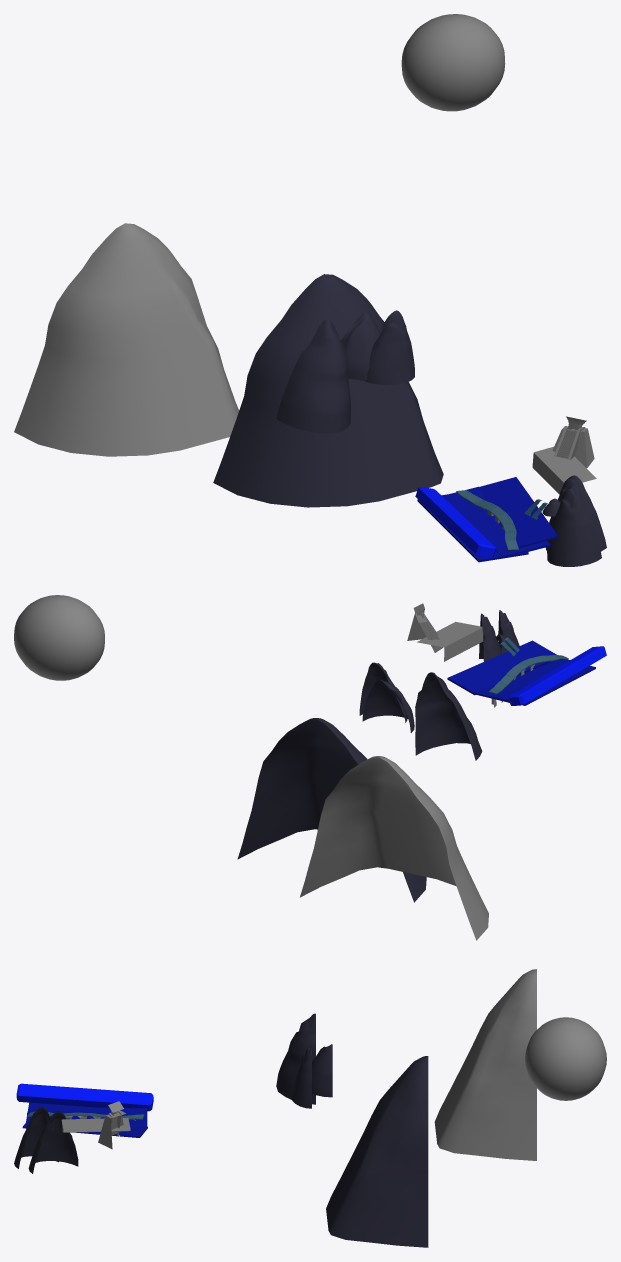
File: Misc.fbx
3 renders of one model, top to bottom at view 1: azimuth 30°, elevation 25°; view 2: azimuth 150°, elevation 25°; view 3: azimuth 270°, elevation 25°, orthographic. The views are drawn at different scales.
Parts seen in each view (by area): view 1: polySurface15, polySurface15__3_, Moon, polySurface14, polySurface13__2_, polySurface13, MainWater, TopWaterRegion, polySurface11, polySurface24, MainWater__2_, MainWater__1_ (+1 smaller); view 2: polySurface15, polySurface15__3_, Moon, polySurface14, MainWater, TopWaterRegion, polySurface11, polySurface24, MainWater__2_, polySurface13, polySurface13__3_, MainWater__1_ (+1 smaller); view 3: polySurface15__3_, polySurface15, Moon, TopWaterRegion, polySurface13__3_, polySurface14, polySurface11, polySurface13__2_, polySurface13, MainWater__1_, polySurface24, polySurface26.
Part boxes in pixels (bbox=[...]): polySurface15: bbox=[14, 223, 239, 456]; polySurface15__3_: bbox=[213, 274, 443, 507]; Moon: bbox=[401, 14, 505, 111]; polySurface14: bbox=[276, 318, 350, 433]; polySurface13__2_: bbox=[547, 485, 601, 566]; polySurface13: bbox=[364, 310, 414, 384]; MainWater: bbox=[479, 477, 558, 548]; TopWaterRegion: bbox=[415, 487, 496, 557]; polySurface11: bbox=[341, 312, 380, 380]; polySurface24: bbox=[532, 446, 596, 494]; MainWater__2_: bbox=[450, 486, 550, 557]; MainWater__1_: bbox=[417, 493, 528, 562]; polySurface15: bbox=[300, 756, 488, 940]; polySurface15__3_: bbox=[237, 718, 426, 902]; Moon: bbox=[14, 595, 104, 680]; polySurface14: bbox=[415, 672, 482, 760]; MainWater: bbox=[447, 640, 556, 695]; TopWaterRegion: bbox=[508, 646, 606, 705]; polySurface11: bbox=[362, 679, 414, 732]; polySurface24: bbox=[417, 621, 483, 661]; MainWater__2_: bbox=[473, 659, 569, 702]; polySurface13: bbox=[359, 662, 407, 722]; polySurface13__3_: bbox=[479, 613, 501, 661]; MainWater__1_: bbox=[492, 665, 595, 705]; polySurface15__3_: bbox=[326, 1056, 428, 1247]; polySurface15: bbox=[434, 969, 536, 1160]; Moon: bbox=[525, 1017, 606, 1100]; TopWaterRegion: bbox=[16, 1083, 153, 1111]; polySurface13__3_: bbox=[28, 1111, 78, 1173]; polySurface14: bbox=[276, 1013, 315, 1104]; polySurface11: bbox=[312, 1044, 332, 1097]; polySurface13__2_: bbox=[14, 1107, 58, 1168]; polySurface13: bbox=[291, 1047, 311, 1108]; MainWater__1_: bbox=[26, 1102, 147, 1121]; polySurface24: bbox=[61, 1118, 130, 1132]; polySurface26: bbox=[98, 1111, 126, 1149].
Size of the model in its own units: 15276 by 9464 by 18446.
